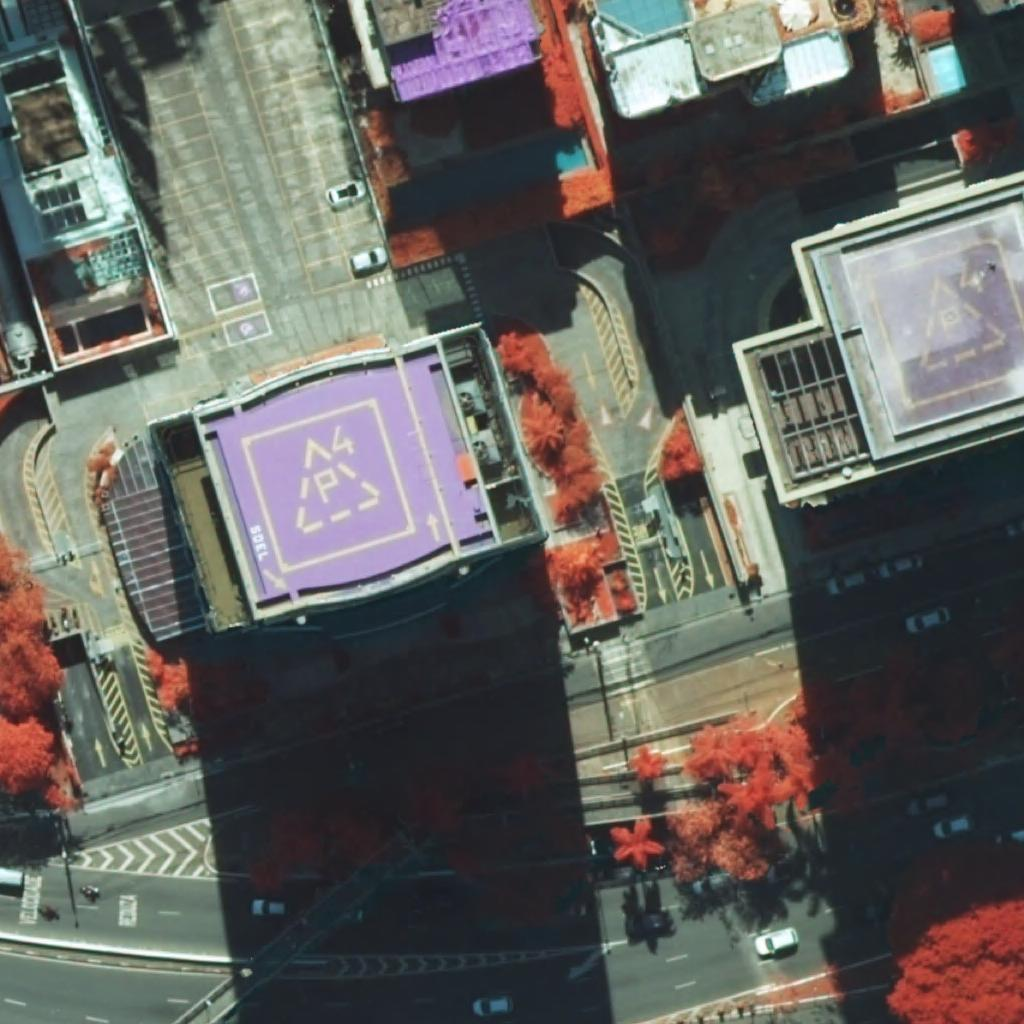pool: (389, 133, 588, 226), (56, 303, 149, 357)
